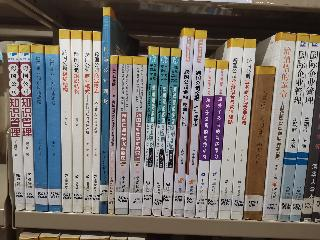book-spine: (261, 32, 297, 222), (277, 35, 310, 222), (289, 35, 320, 222), (215, 38, 246, 221), (231, 39, 257, 221), (243, 65, 273, 220), (171, 27, 195, 219), (184, 30, 207, 218), (204, 59, 229, 220), (194, 58, 216, 218), (161, 48, 181, 217), (6, 44, 26, 211), (113, 55, 133, 216), (151, 47, 170, 216), (127, 56, 147, 216), (141, 46, 159, 216), (18, 44, 36, 211), (32, 45, 50, 212), (45, 46, 62, 214), (57, 28, 72, 213), (70, 30, 84, 214), (99, 8, 111, 215), (82, 29, 93, 214), (106, 55, 118, 214), (93, 31, 100, 215)
